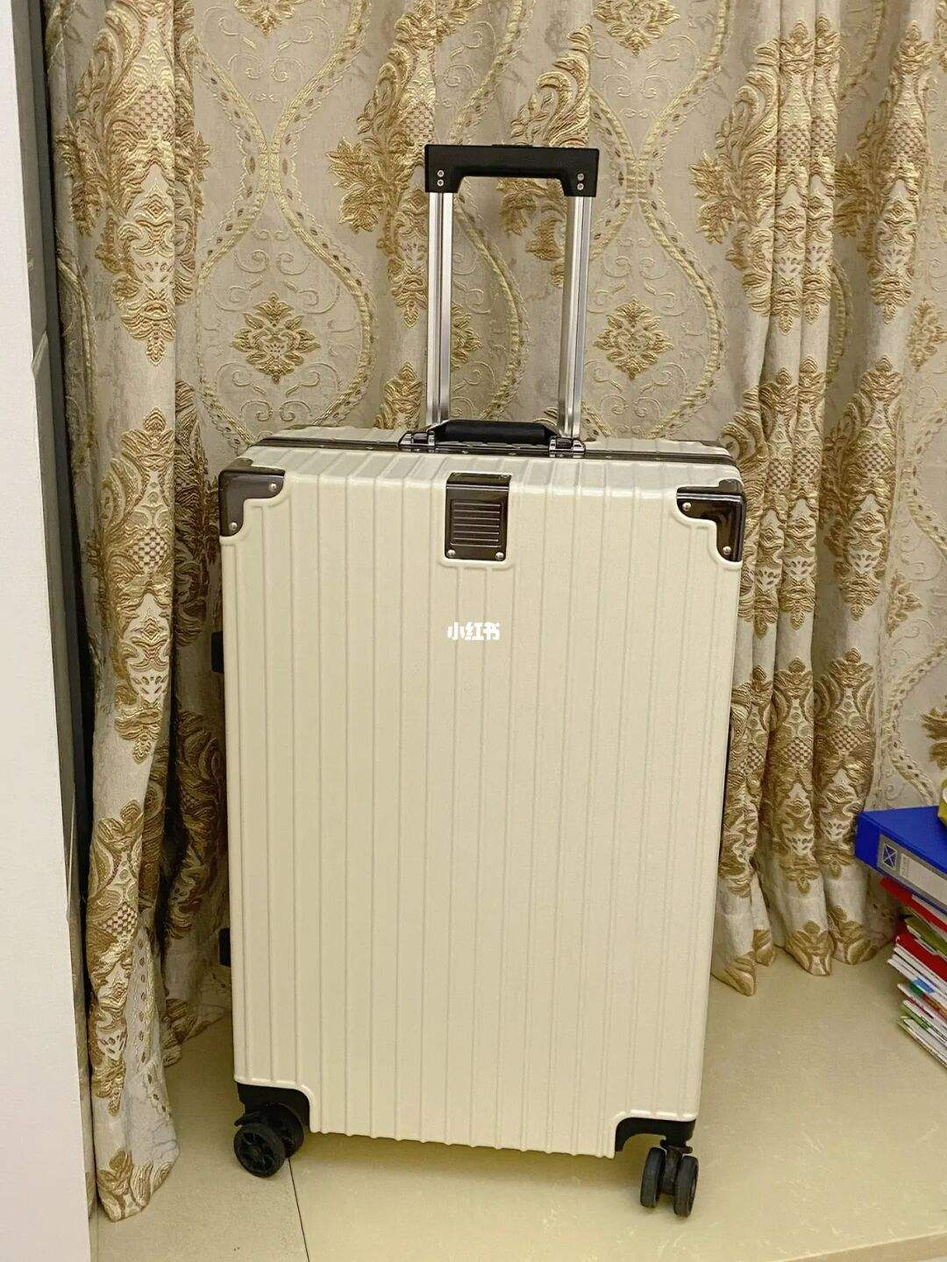box: (217, 428, 749, 1163)
handle: (398, 418, 586, 454)
wheel: (234, 1103, 303, 1179), (640, 1148, 699, 1219)
